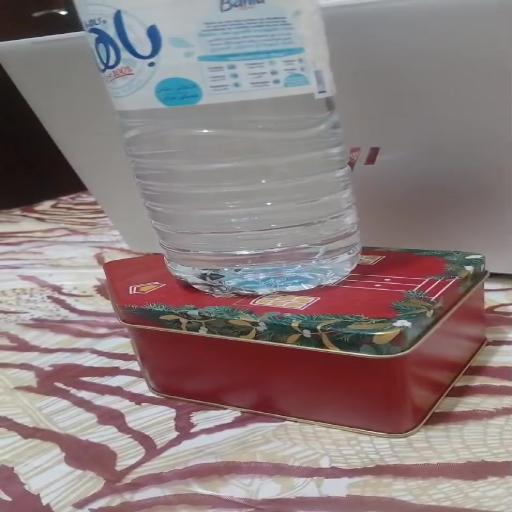bouteille conformite: (88, 0, 379, 302)
